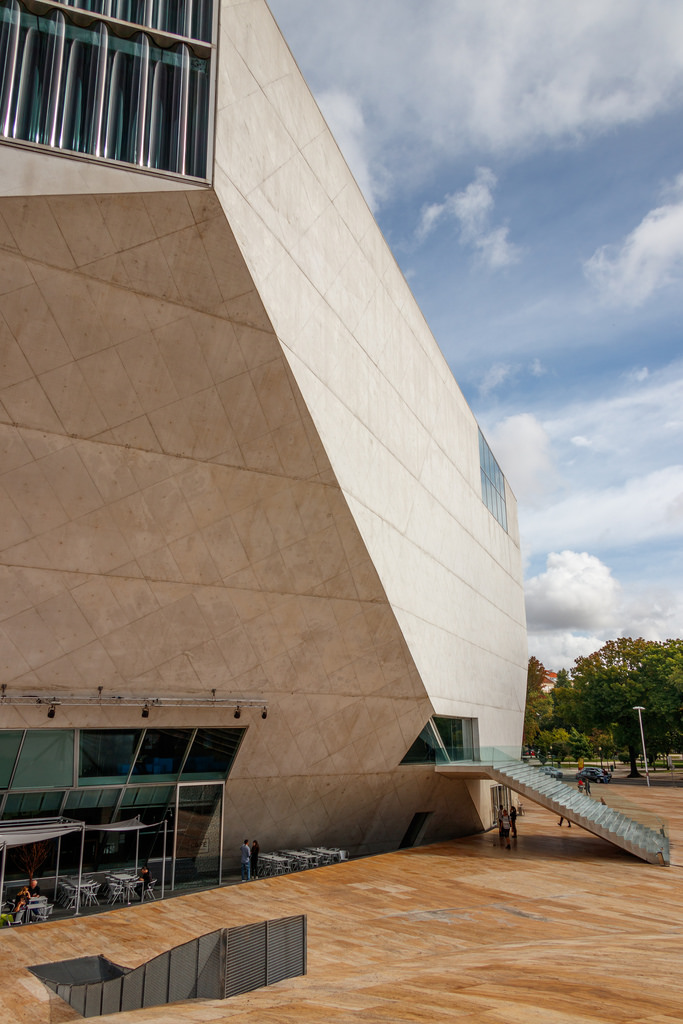musica: (0, 0, 530, 881)
